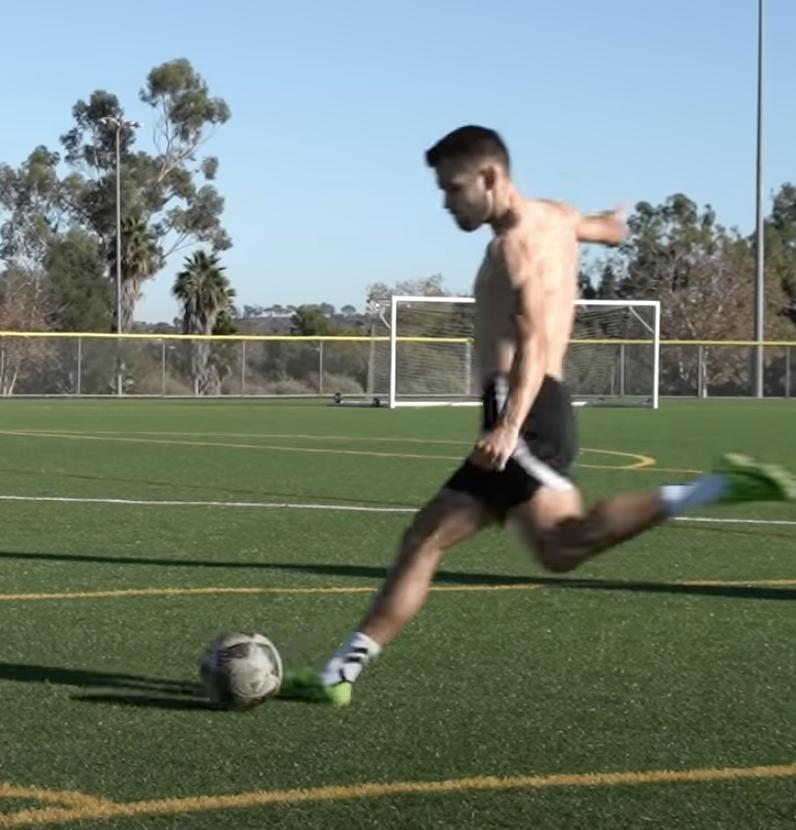ball: (201, 633, 283, 711)
foot: (703, 453, 793, 509), (276, 659, 348, 708)
person: (278, 123, 794, 704)
